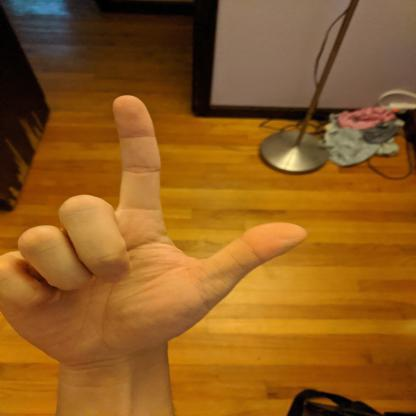L: (0, 89, 314, 370)
